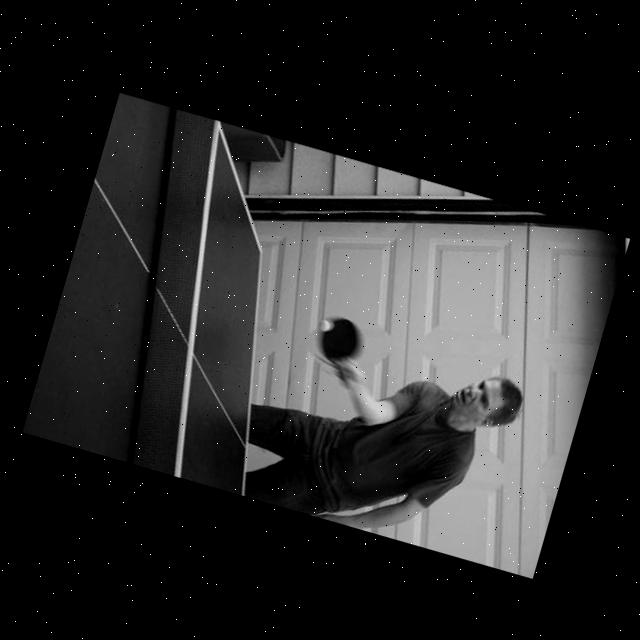ping-pong-ball: (315, 318, 331, 333)
